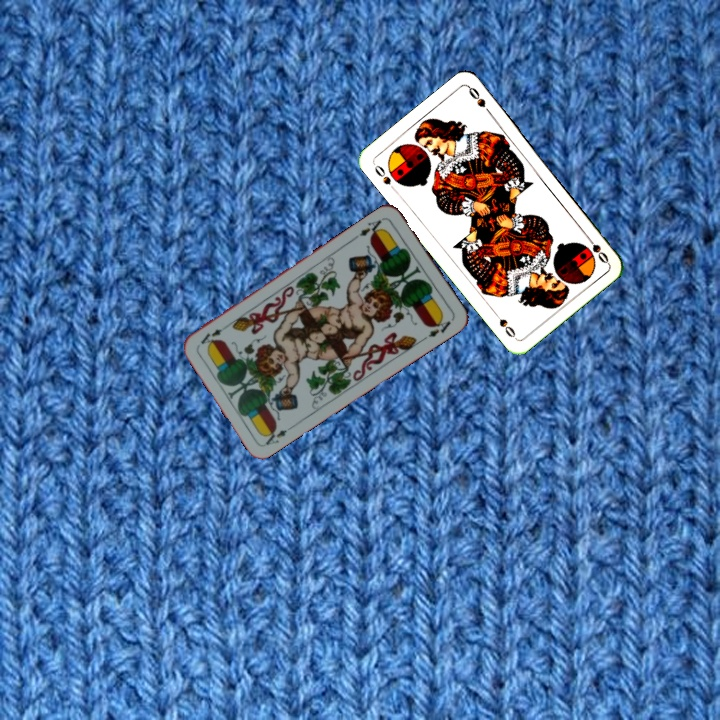EA: (351, 214, 387, 241), (260, 421, 296, 448)
SO: (582, 231, 611, 266), (370, 160, 394, 187)
